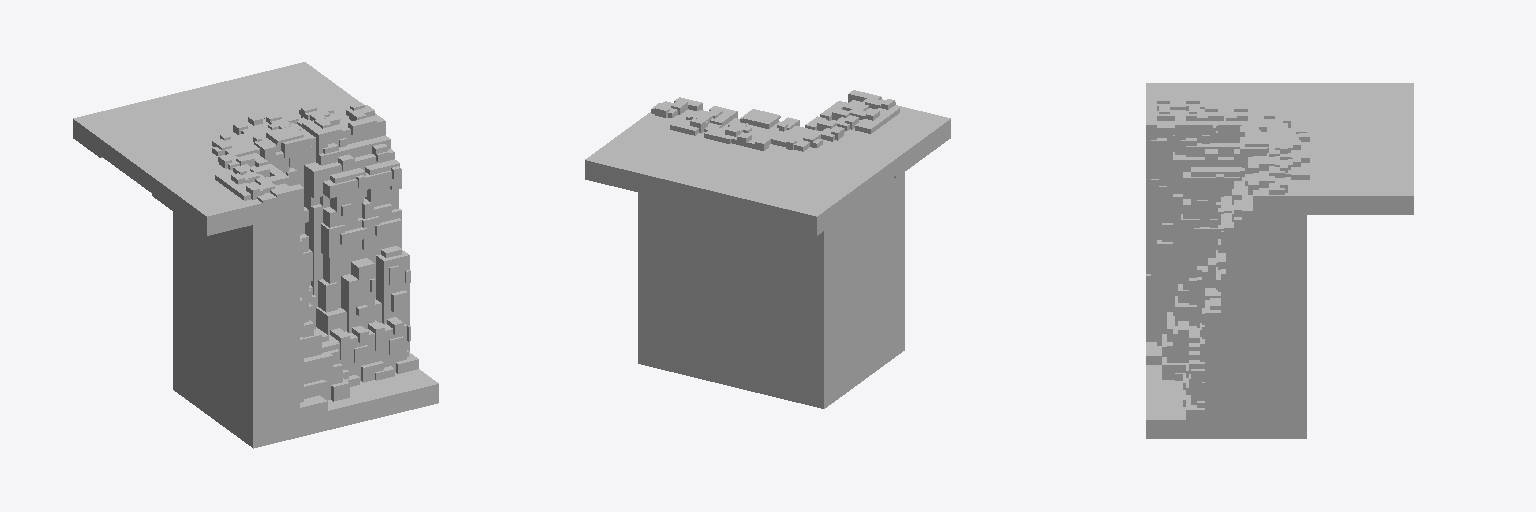
File: Cliffs-2-Cliff Conrer In.obj
3 views of the same model, side by side, from view 1: azimuth 30°, elevation 25°; view 2: azimuth 150°, elevation 25°; view 3: azimuth 270°, elevation 25° (orthographic).
Visible parts, largest first — view 1: Cliff Conrer In; view 2: Cliff Conrer In; view 3: Cliff Conrer In.
Part boxes in pixels (x1,y1,x2,y2): Cliff Conrer In: (73,62,438,448); Cliff Conrer In: (585,90,950,408); Cliff Conrer In: (1146,83,1413,438).
Bounding box in the file's own units: 10 × 10.4 × 10.